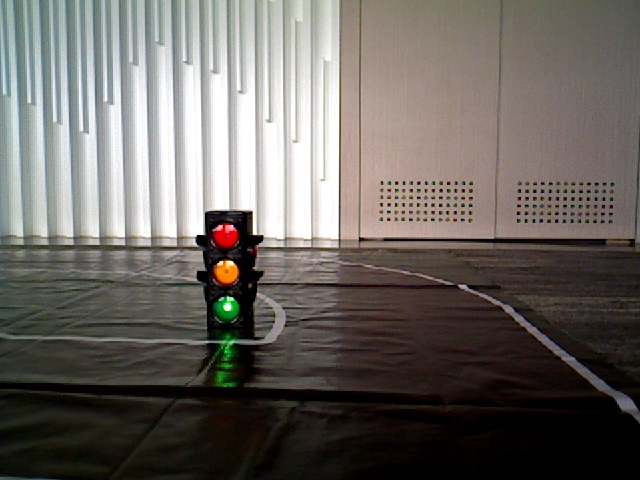green: (206, 213, 251, 328)
